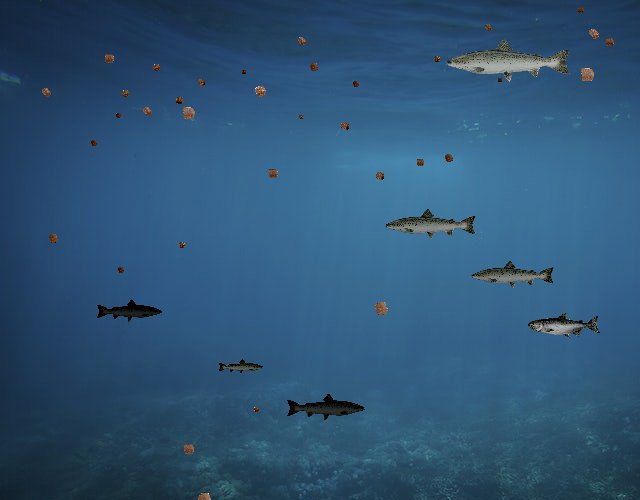Fish: (444, 37, 573, 83), (385, 207, 479, 241), (470, 259, 556, 290), (285, 392, 366, 422), (529, 312, 602, 338), (96, 298, 164, 322), (218, 359, 265, 376)
Pellet: (248, 79, 273, 104), (177, 438, 200, 461), (190, 484, 220, 500), (370, 166, 389, 185), (174, 238, 189, 253), (429, 52, 444, 66), (114, 263, 128, 277), (250, 404, 262, 416)
